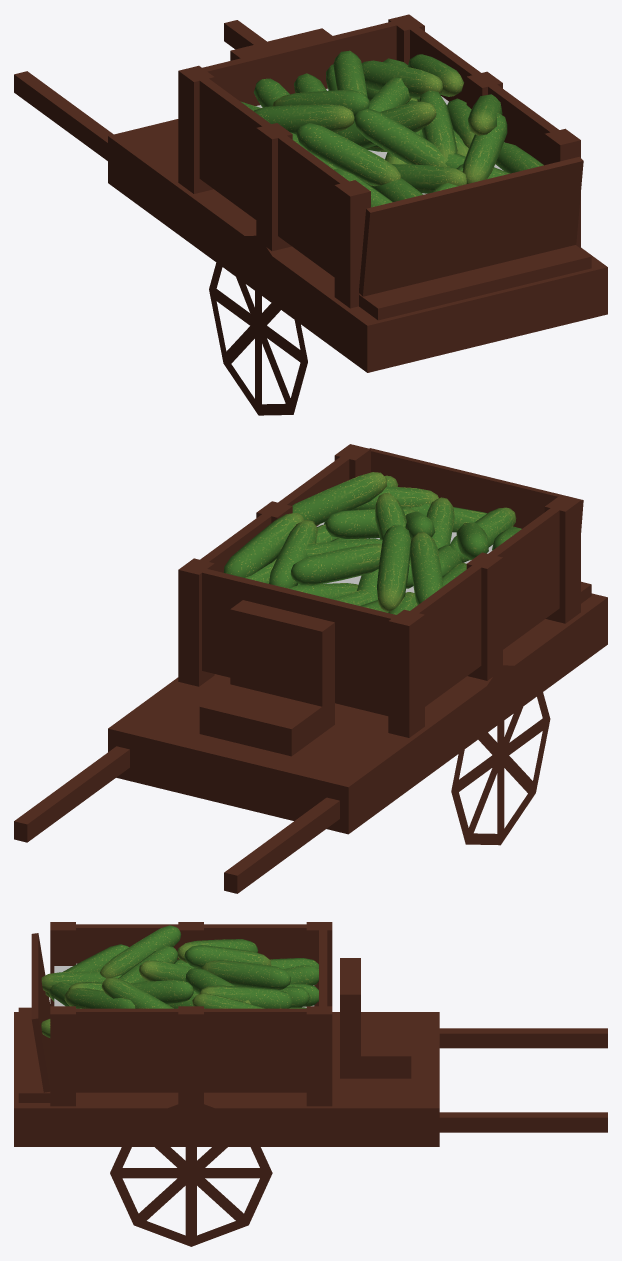
The model's file is carretta.fbx.
3 renders of one model, top to bottom at view 1: azimuth 30°, elevation 25°; view 2: azimuth 150°, elevation 25°; view 3: azimuth 270°, elevation 25°, orthographic. The views are drawn at different scales.
Visible parts, largest first — view 1: Cube.001, Circle.031, Circle.030, Circle.026, Circle.021, Circle.027, Circle.029, Circle.016, Circle.028, Circle.024, Circle.023, Circle.020 (+6 smaller); view 2: Cube.001, Circle.023, Circle.032, Circle.024, Circle.020, Circle.026, Circle.021, Circle.028, Circle.029, Circle.017, Circle.016, Circle.027 (+4 smaller); view 3: Cube.001, Circle.023, Circle.031, Circle.021, Circle.024, Circle.027, Circle.032, Circle.028, Circle.029, Circle.017, Circle.018, Circle.026 (+4 smaller).
Part boxes in pixels (x1,y1,x2,y2): Cube.001: (14, 14, 607, 415); Circle.031: (296, 123, 401, 186); Circle.030: (354, 108, 448, 166); Circle.026: (254, 104, 354, 134); Circle.021: (361, 60, 442, 99); Circle.027: (462, 112, 507, 183); Circle.029: (336, 101, 436, 148); Circle.016: (391, 164, 466, 193); Circle.028: (418, 90, 457, 160); Circle.024: (272, 89, 369, 117); Circle.023: (333, 50, 367, 97); Circle.020: (407, 54, 463, 96); Cube.001: (14, 444, 607, 893); Circle.023: (290, 543, 381, 585); Circle.032: (292, 472, 387, 525); Circle.024: (377, 525, 410, 611); Circle.020: (223, 513, 304, 577); Circle.026: (410, 532, 443, 604); Circle.021: (269, 520, 317, 588); Circle.028: (325, 509, 415, 538); Circle.029: (375, 493, 413, 588); Circle.017: (449, 507, 516, 562); Circle.016: (426, 497, 454, 548); Circle.027: (352, 486, 438, 509); Cube.001: (14, 922, 607, 1246); Circle.023: (201, 960, 290, 989); Circle.031: (100, 925, 181, 978); Circle.021: (199, 985, 292, 1008); Circle.024: (184, 945, 271, 968); Circle.027: (64, 988, 135, 1008); Circle.032: (101, 977, 173, 1008); Circle.028: (130, 980, 193, 1004); Circle.029: (139, 960, 195, 981); Circle.017: (41, 971, 121, 992); Circle.018: (45, 944, 128, 998); Circle.026: (177, 939, 258, 963).
Size of the model in its own units: 322 by 378 by 834.
